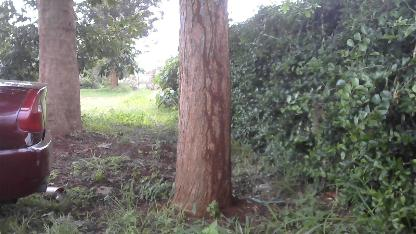tree: (171, 0, 236, 234), (31, 0, 90, 145)
